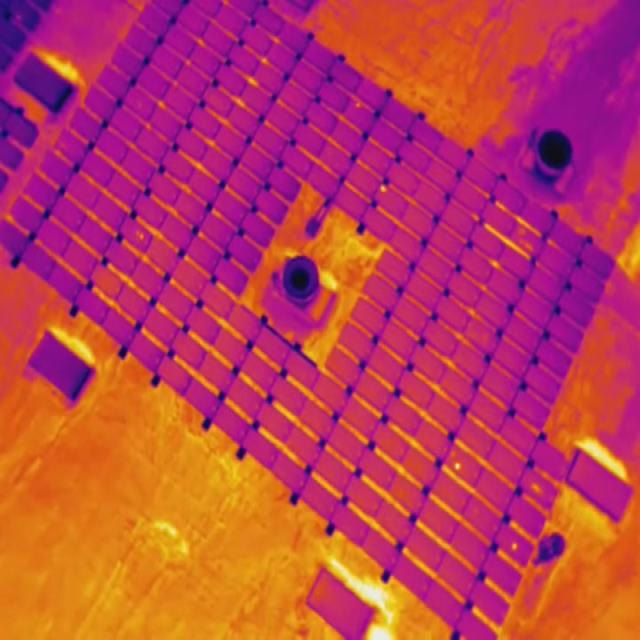Orange-Spots: (532, 482, 540, 495), (524, 242, 534, 252), (136, 231, 144, 240), (518, 226, 526, 235), (454, 461, 461, 471), (512, 542, 518, 551), (381, 186, 387, 193), (356, 102, 360, 109), (520, 238, 524, 244), (451, 451, 455, 457)
